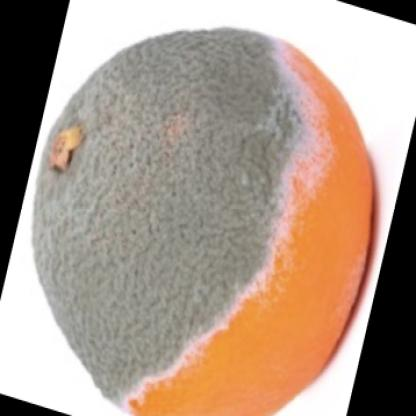rotten: (30, 29, 375, 416)
